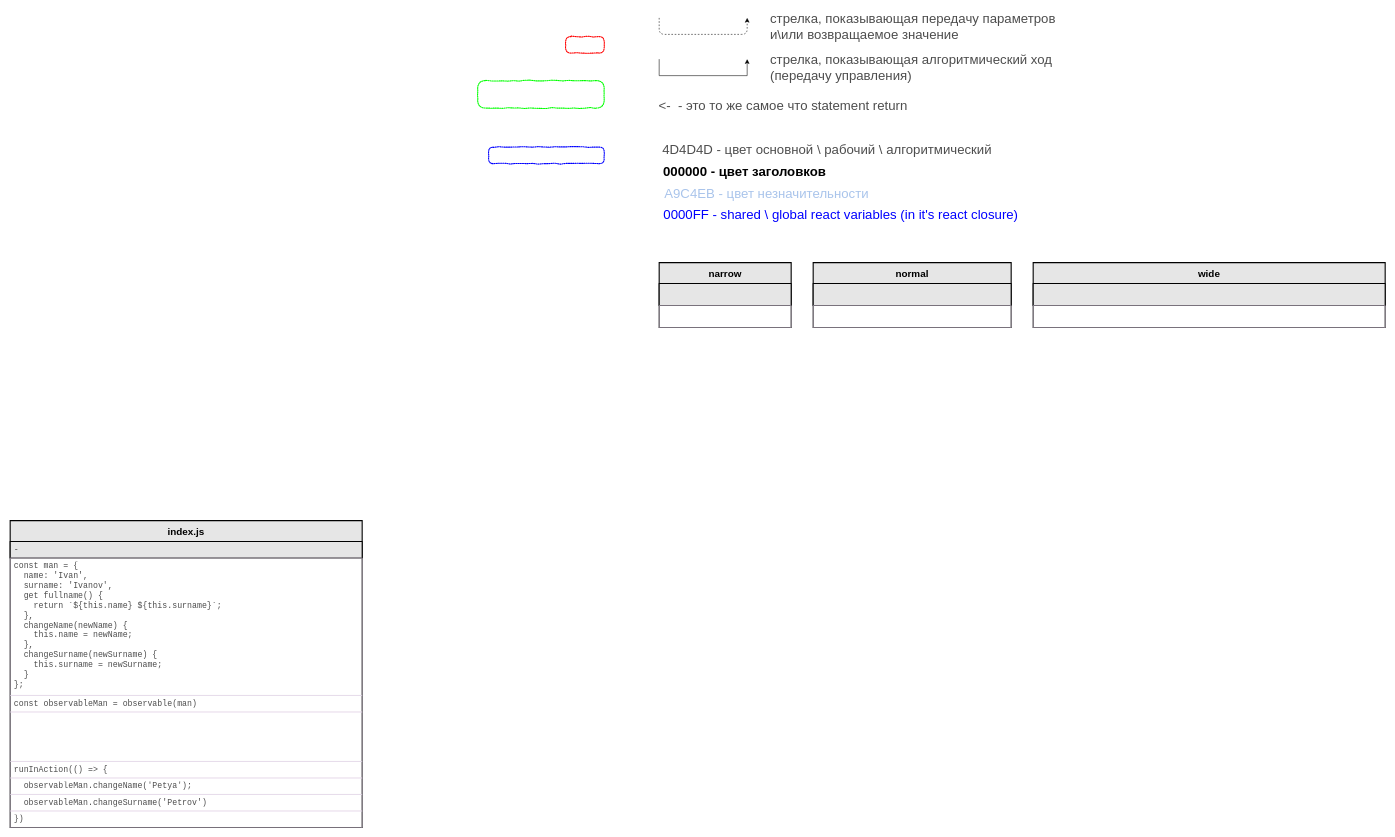
The diagram is 1395 pixels wide and 837 high, and some of its shapes have lost their labels. The shapes that lost their labels are listed below. From the top down, each one's centre as x and y in pixels, then its label:
(x=584, y=44): TODO
(x=540, y=94): FUTURE SPARE MARK FOR SOMETHING
(x=546, y=155): ADDITIONAL INFO
(x=186, y=736): reaction( () => `${observableMan.fullname}!!!`, data => console.log(data) )
